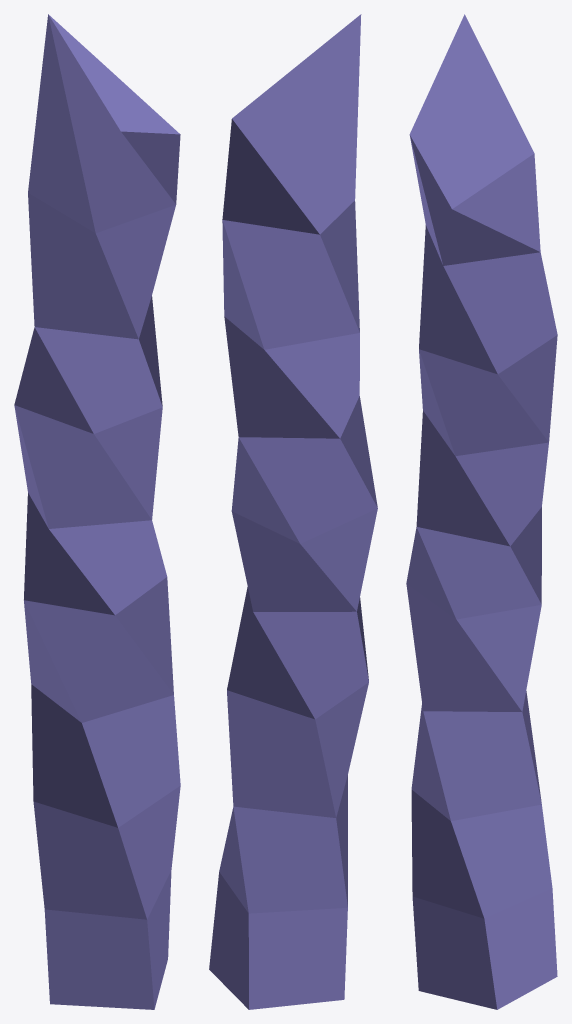
File: Parafuso.fbx
3 views of the same model, side by side, from view 1: azimuth 30°, elevation 25°; view 2: azimuth 150°, elevation 25°; view 3: azimuth 270°, elevation 25° (orthographic). The views are drawn at different scales.
Parts seen in each view (by area): view 1: Cube; view 2: Cube; view 3: Cube.
Part boxes in pixels (x1,y1,x2,y2): Cube: [14, 14, 180, 1009]; Cube: [209, 14, 377, 1009]; Cube: [406, 14, 557, 1009].
Size of the model in its own units: 3.23 by 20.9 by 3.05.
